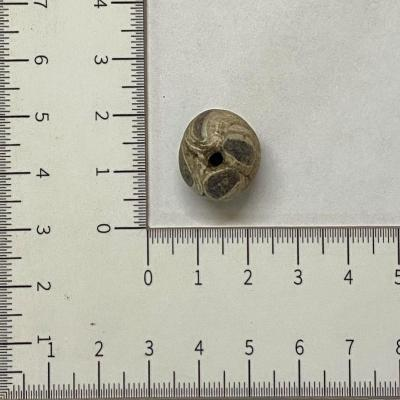archeology: (178, 109, 261, 202)
